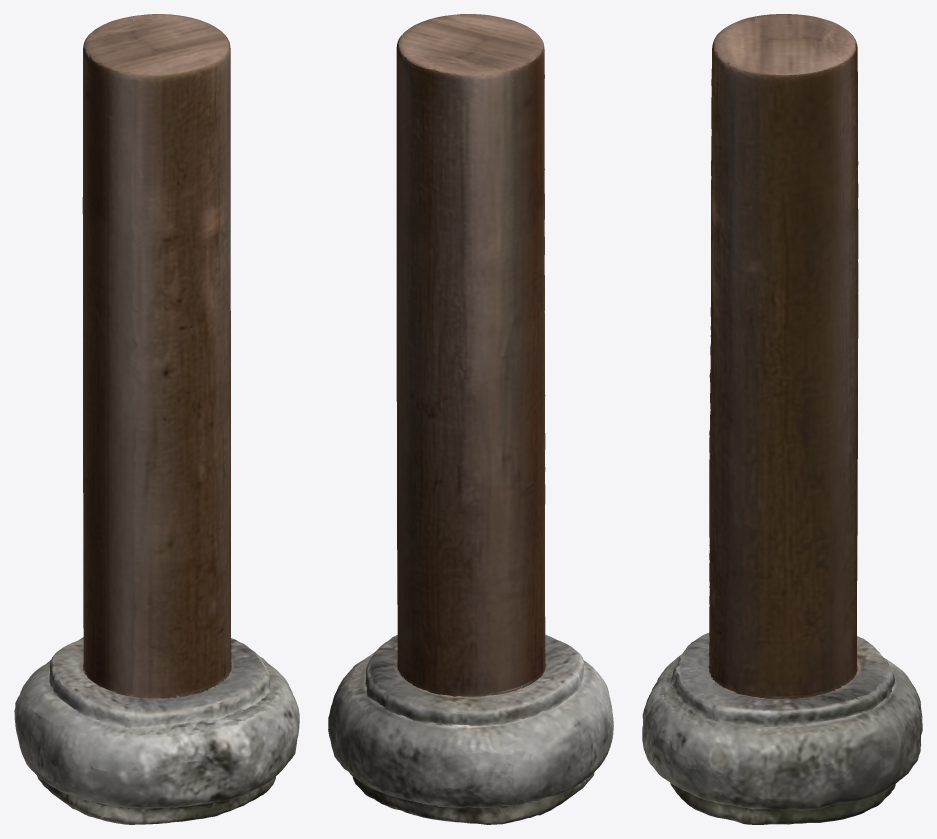
The model's file is pillar_textured.glb.
The picture shows the model from 3 angles, left to right: view 1: azimuth 30°, elevation 25°; view 2: azimuth 150°, elevation 25°; view 3: azimuth 270°, elevation 25°; orthographic projection.
Visible parts, largest first — view 1: geometry_0; view 2: geometry_0; view 3: geometry_0.
Boxes of the visible parts, box(x1,y1,x2,y2) form: geometry_0: box(14, 14, 299, 824); geometry_0: box(328, 14, 613, 824); geometry_0: box(642, 14, 922, 824).
Size of the model in its own units: 0.307 by 0.9 by 0.3103.
1 material, 1 textured.
